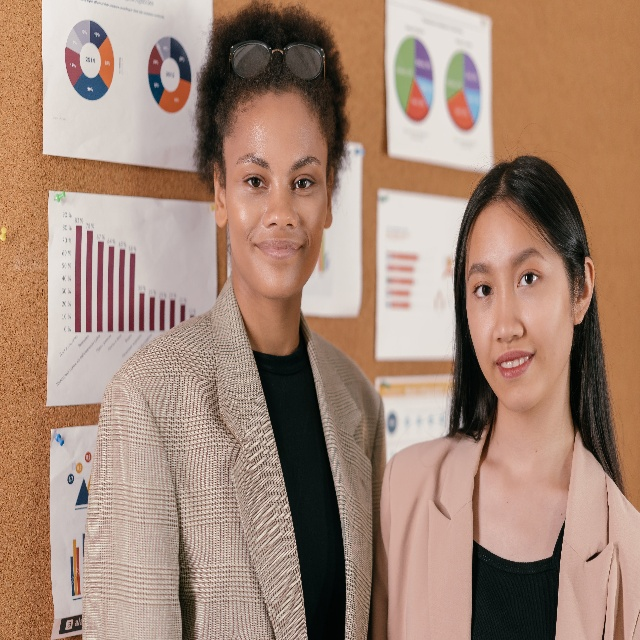Gafas: (226, 30, 325, 90)
